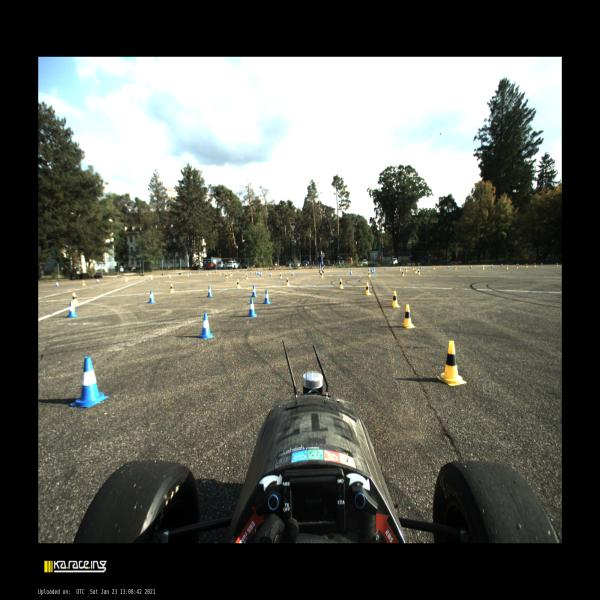blue_cone: (70, 356, 109, 408), (199, 313, 214, 339), (66, 302, 78, 318), (247, 298, 257, 317), (264, 290, 271, 304), (149, 291, 156, 303), (206, 286, 213, 297), (251, 285, 257, 297), (350, 269, 352, 275), (56, 282, 59, 286), (97, 279, 100, 283), (258, 270, 260, 276), (373, 267, 375, 273), (292, 271, 294, 276), (260, 271, 262, 276), (372, 269, 374, 274), (270, 272, 272, 276), (250, 270, 252, 274), (255, 270, 257, 274), (368, 267, 370, 271), (371, 268, 373, 272), (420, 265, 422, 269), (126, 277, 128, 280), (223, 271, 225, 274), (470, 265, 472, 268), (491, 264, 493, 267), (320, 269, 321, 275), (257, 270, 258, 275), (168, 274, 169, 278), (190, 272, 191, 276), (385, 266, 386, 270), (448, 265, 449, 269), (501, 264, 503, 266), (541, 262, 542, 266), (237, 271, 238, 274), (401, 266, 402, 269), (518, 263, 519, 266), (210, 272, 211, 274)
yellow_cone: (438, 340, 466, 386), (401, 304, 416, 328), (392, 290, 400, 308), (365, 283, 372, 295), (73, 292, 79, 305), (338, 279, 344, 289), (170, 283, 174, 293), (286, 277, 290, 286), (236, 280, 240, 288), (401, 270, 405, 276), (367, 271, 371, 277), (82, 280, 86, 286), (245, 274, 248, 279), (125, 277, 128, 282), (150, 275, 153, 280), (482, 265, 485, 270), (418, 269, 420, 275), (321, 272, 323, 278), (280, 272, 282, 278), (399, 266, 401, 272), (506, 264, 508, 270), (219, 271, 221, 276), (226, 273, 228, 278), (406, 267, 408, 272), (415, 268, 417, 273), (433, 265, 435, 270), (454, 265, 456, 270), (526, 263, 528, 268), (169, 274, 171, 278), (206, 272, 208, 276), (231, 272, 233, 276), (412, 266, 414, 270), (516, 264, 518, 268), (534, 263, 536, 267), (187, 273, 189, 276), (230, 272, 231, 277), (557, 263, 558, 266)
